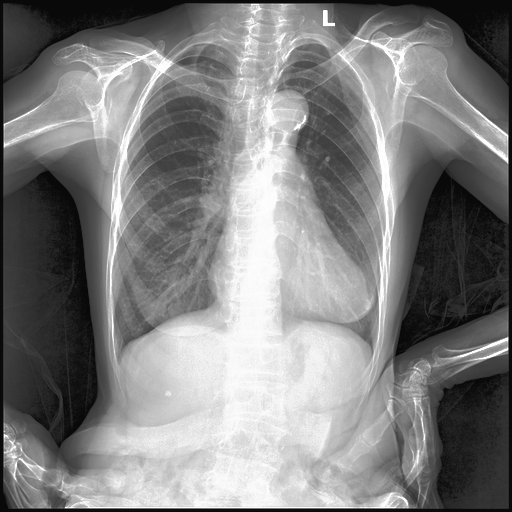Consolidation: (267, 89, 309, 129)
Nodule/Mass: (207, 254, 369, 318)
Other lesion: (167, 303, 183, 318)
Pulmonary fibrosis: (167, 303, 183, 318)
